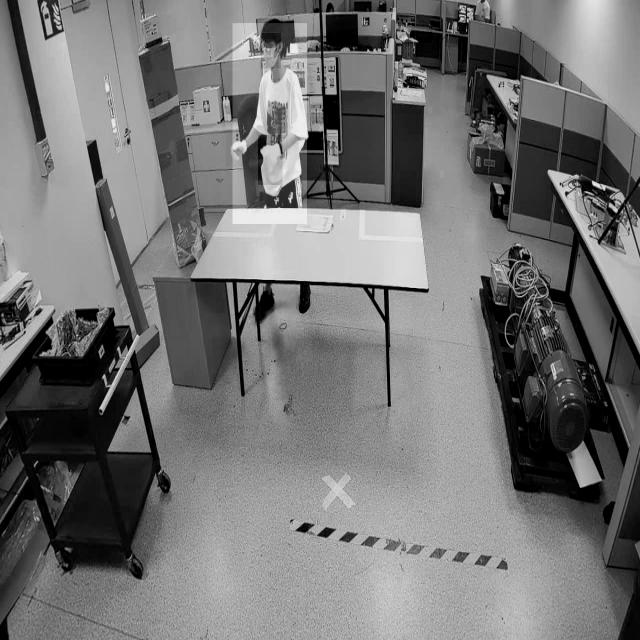face_mask: (261, 33, 281, 69)
hand_glove: (258, 135, 283, 186), (226, 131, 250, 167)
head_nohelmet: (260, 18, 284, 33)
person: (232, 23, 308, 225)
shoes: (250, 284, 276, 326), (296, 281, 314, 316)
